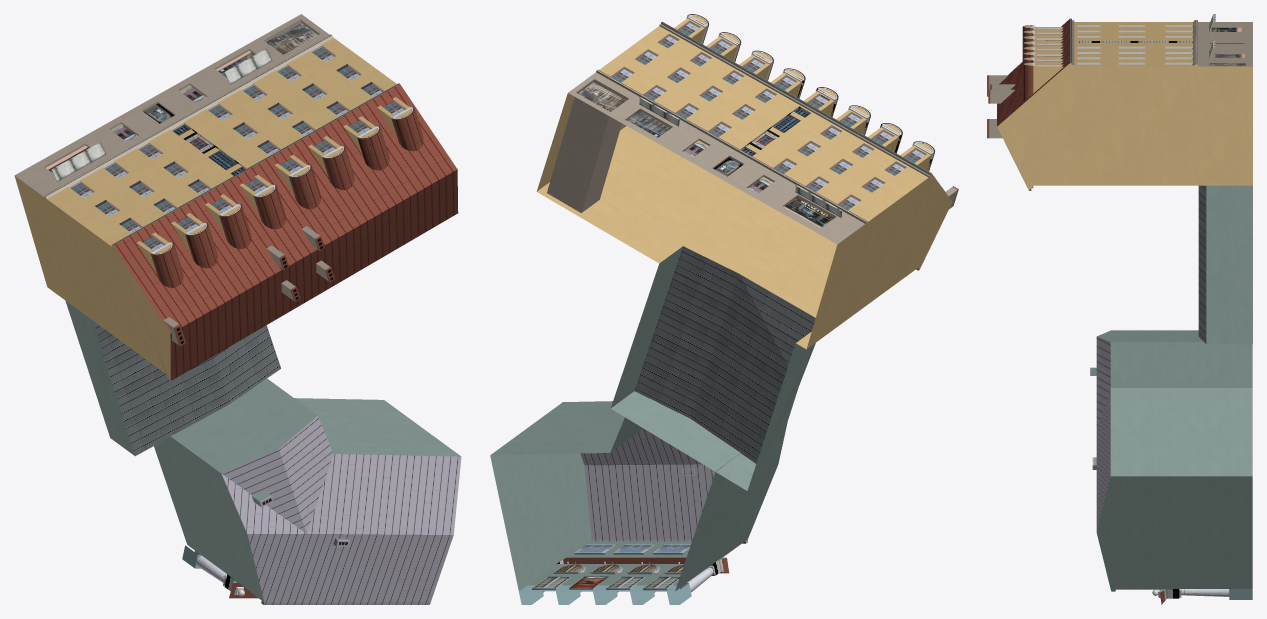
File: Vabaduse_valjak_2c.obj
3 views of the same model, side by side, from view 1: azimuth 30°, elevation 25°; view 2: azimuth 150°, elevation 25°; view 3: azimuth 270°, elevation 25° (orthographic). The views are drawn at different scales.
Visible parts, largest first — view 1: Vabaduse_valjak_2b; view 2: Vabaduse_valjak_2b; view 3: Vabaduse_valjak_2b.
Boxes of the visible parts, x1=… form: Vabaduse_valjak_2b: x1=14, y1=14, x2=461, y2=604; Vabaduse_valjak_2b: x1=490, y1=14, x2=958, y2=604; Vabaduse_valjak_2b: x1=987, y1=14, x2=1252, y2=604.
Size of the model in its own units: 33.04 by 48.05 by 22.36.
